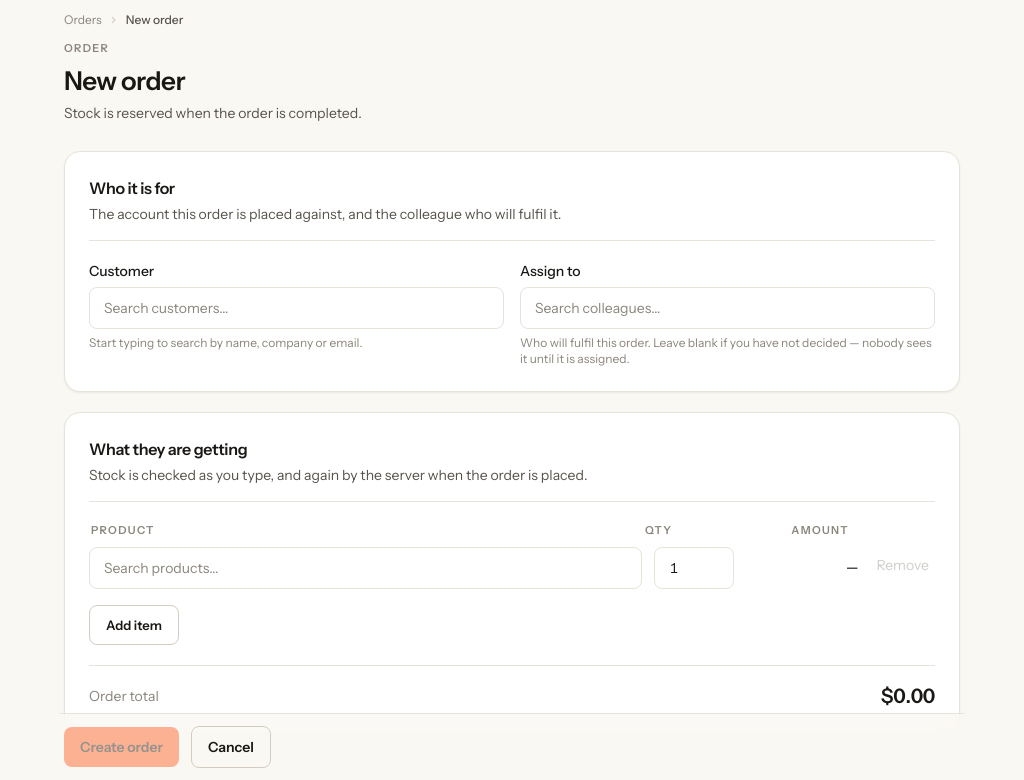
Test: OrderForm with a variant product › offers the colours once a variant product is chosen
Type "karachi" into the dropdown labelled "Customer". click: (296, 308)
box: [89,287,504,329]
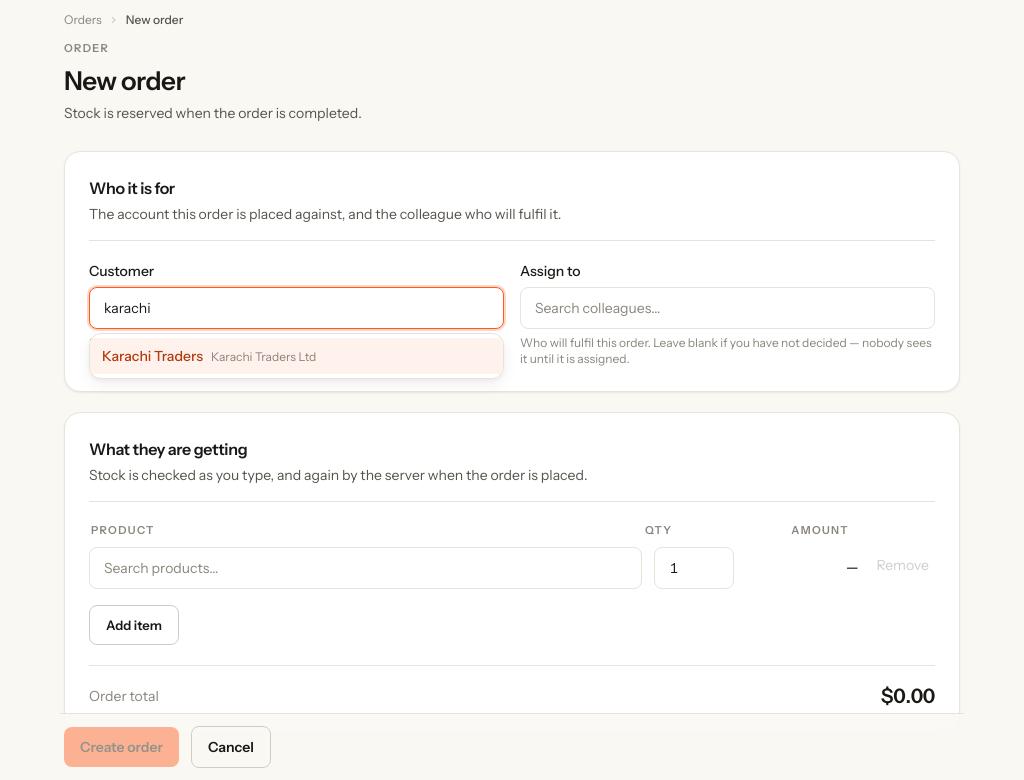
Click the option "Karachi Traders". click: click(296, 356)
box: [90,338,503,374]
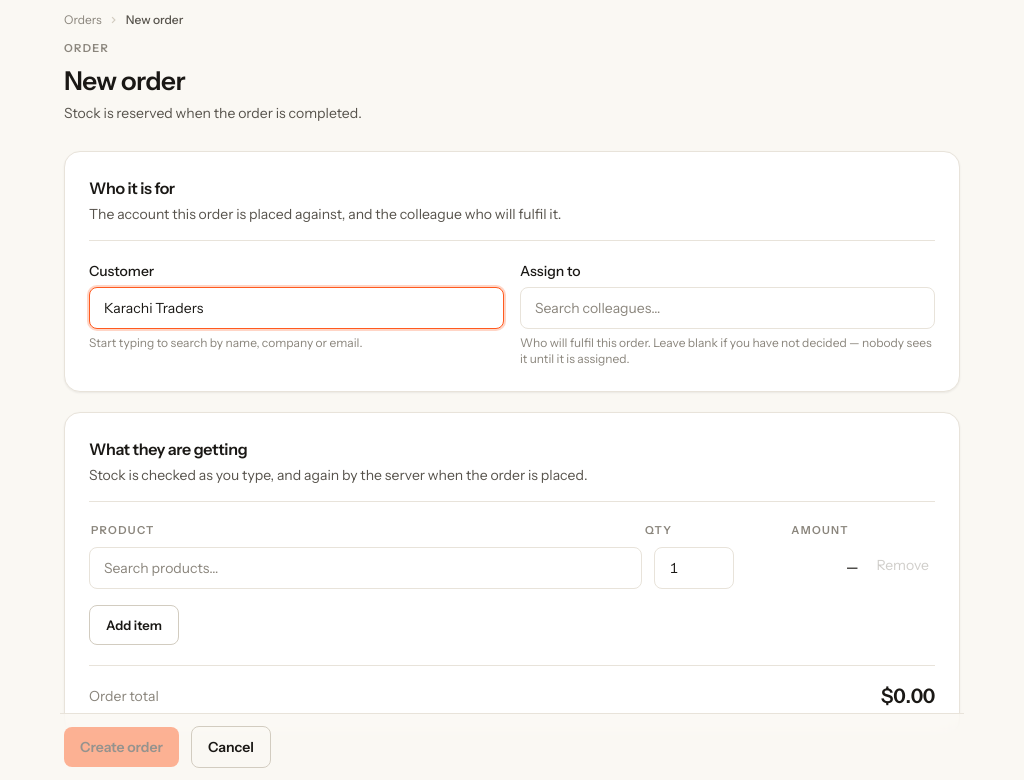
Type "trail" into the dropdown with placeholder "Search products…". click: (366, 568)
box: [89,546,642,588]
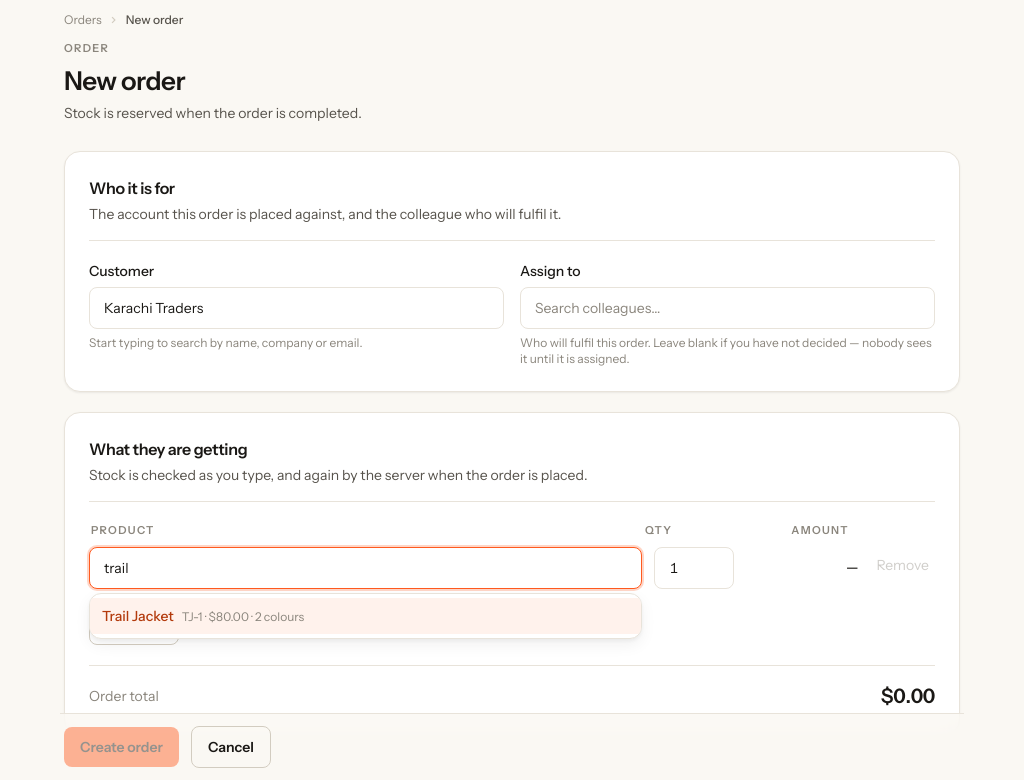
Click the option "Trail Jacket". click: click(138, 616)
box: [90,598,641,634]
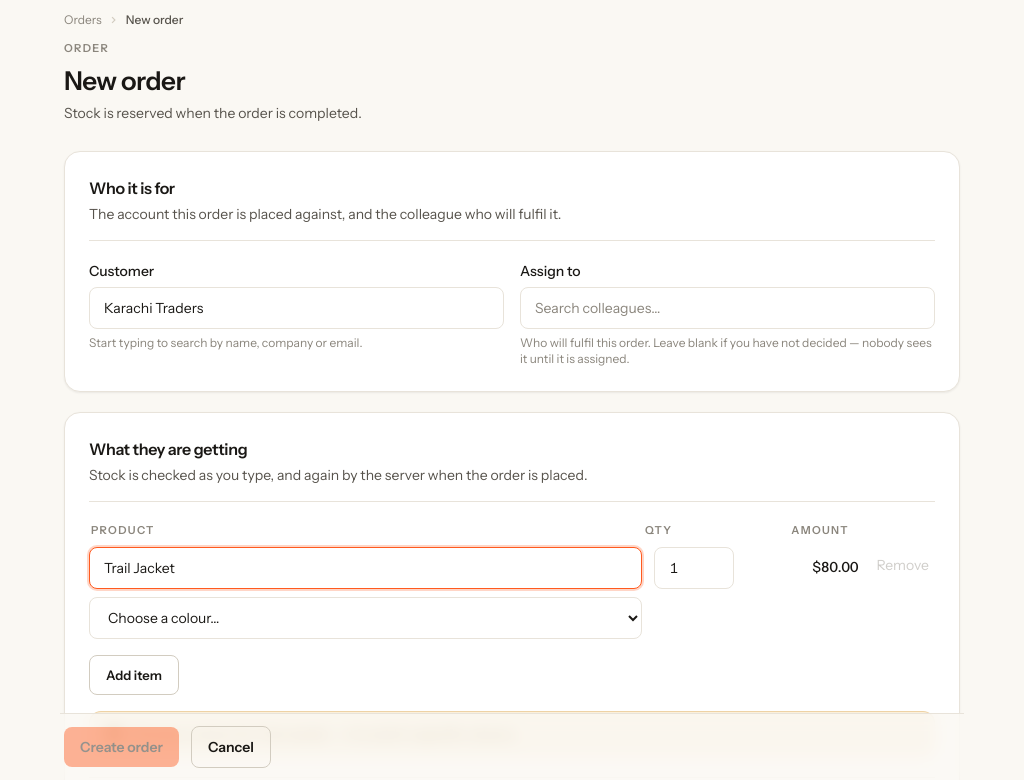
Check: the 2nd dropdown named "colour and size for item 1" is shown, box [89,596,642,638]
